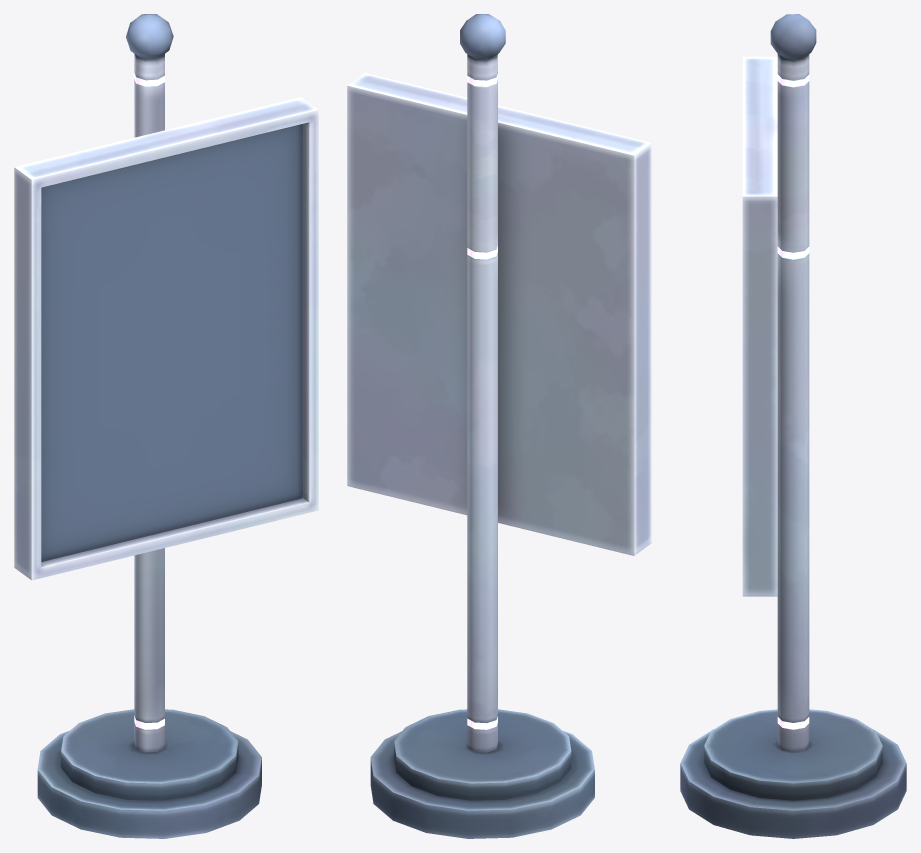
The model's file is obj_banner08.gltf.
3 views of the same model, side by side, from view 1: azimuth 30°, elevation 25°; view 2: azimuth 150°, elevation 25°; view 3: azimuth 270°, elevation 25° (orthographic).
Parts seen in each view (by area): view 1: obj_banner08; view 2: obj_banner08; view 3: obj_banner08.
Boxes of the visible parts, x1,y1,x2,y2 form: obj_banner08: [14, 14, 318, 838]; obj_banner08: [347, 14, 651, 838]; obj_banner08: [680, 14, 906, 838].
Size of what is drawn, in the model's own units: 0.9 by 2.33 by 0.6145.
2 materials, 1 textured.
